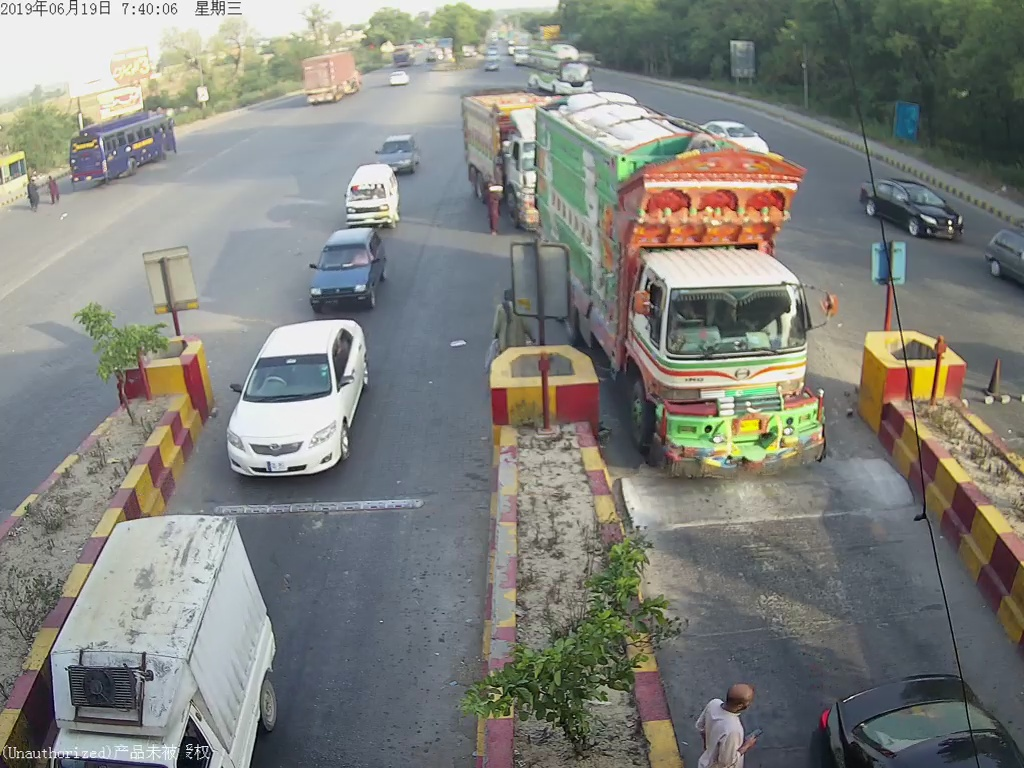Cat-1: (224, 323, 373, 481), (302, 222, 390, 317), (336, 162, 399, 215)
Cat-4: (521, 90, 845, 483)
